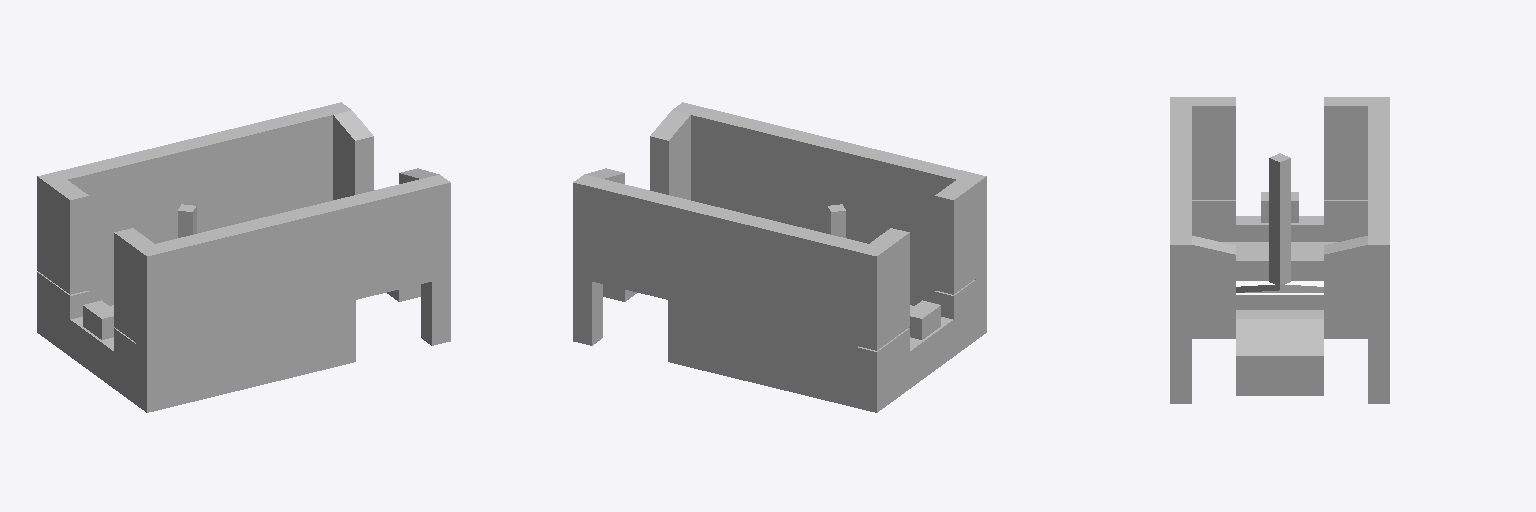
File: polestuff.obj
The picture shows the model from 3 angles: view 1: azimuth 30°, elevation 25°; view 2: azimuth 150°, elevation 25°; view 3: azimuth 270°, elevation 25°; orthographic projection.
Parts seen in each view (by area): view 1: polestuff_entity10_brush0; view 2: polestuff_entity10_brush0; view 3: polestuff_entity10_brush0.
Part boxes in pixels (x1,y1,x2,y2): polestuff_entity10_brush0: (37,102,450,412); polestuff_entity10_brush0: (573,102,986,412); polestuff_entity10_brush0: (1170,97,1389,403).
Bounding box in the file's own units: 17.25 × 8 × 10.